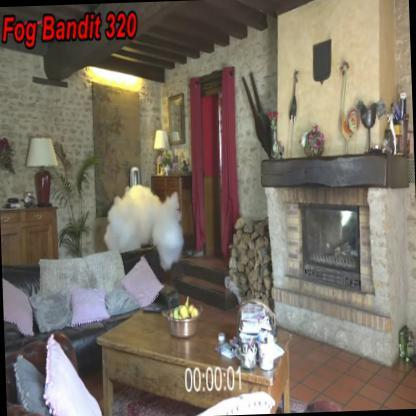smoke: (103, 184, 183, 272)
